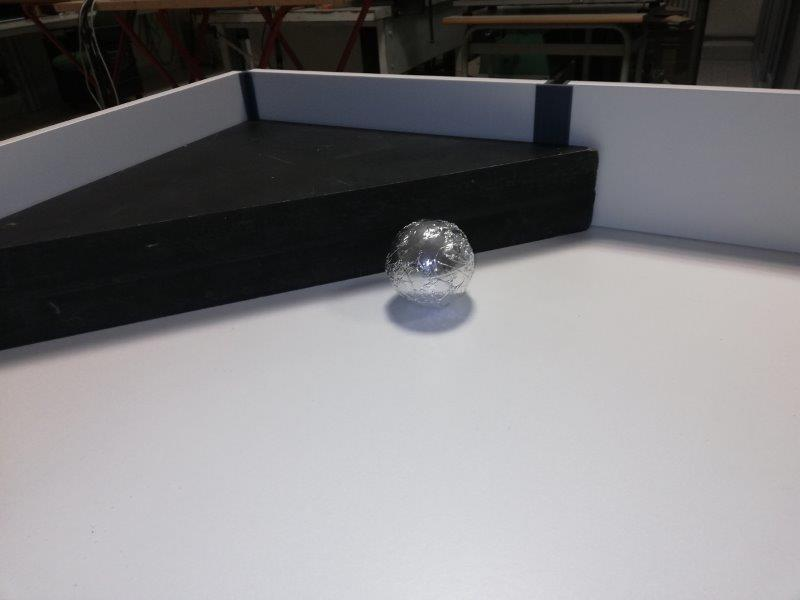bianca: (387, 219, 481, 307)
